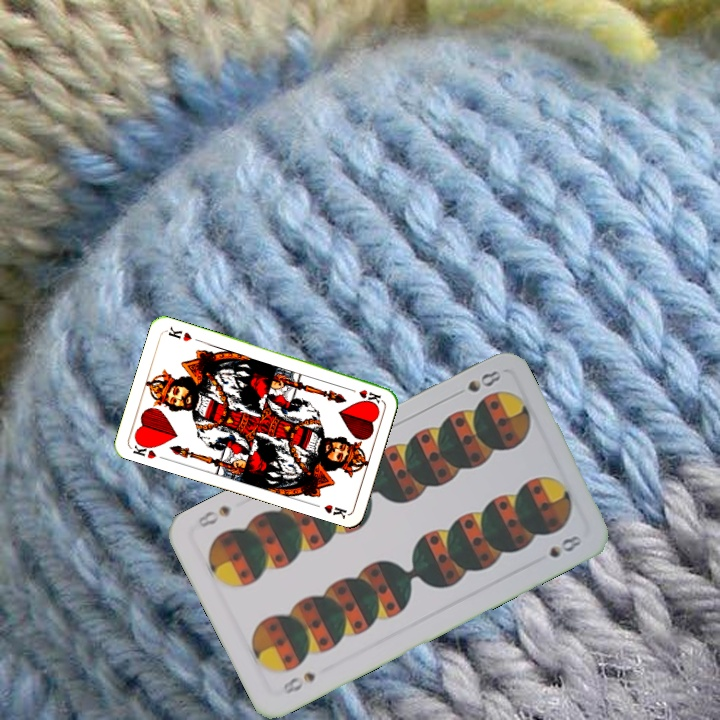HK: (343, 384, 384, 406), (128, 436, 159, 461)
S8: (277, 667, 318, 697), (463, 366, 504, 395)
